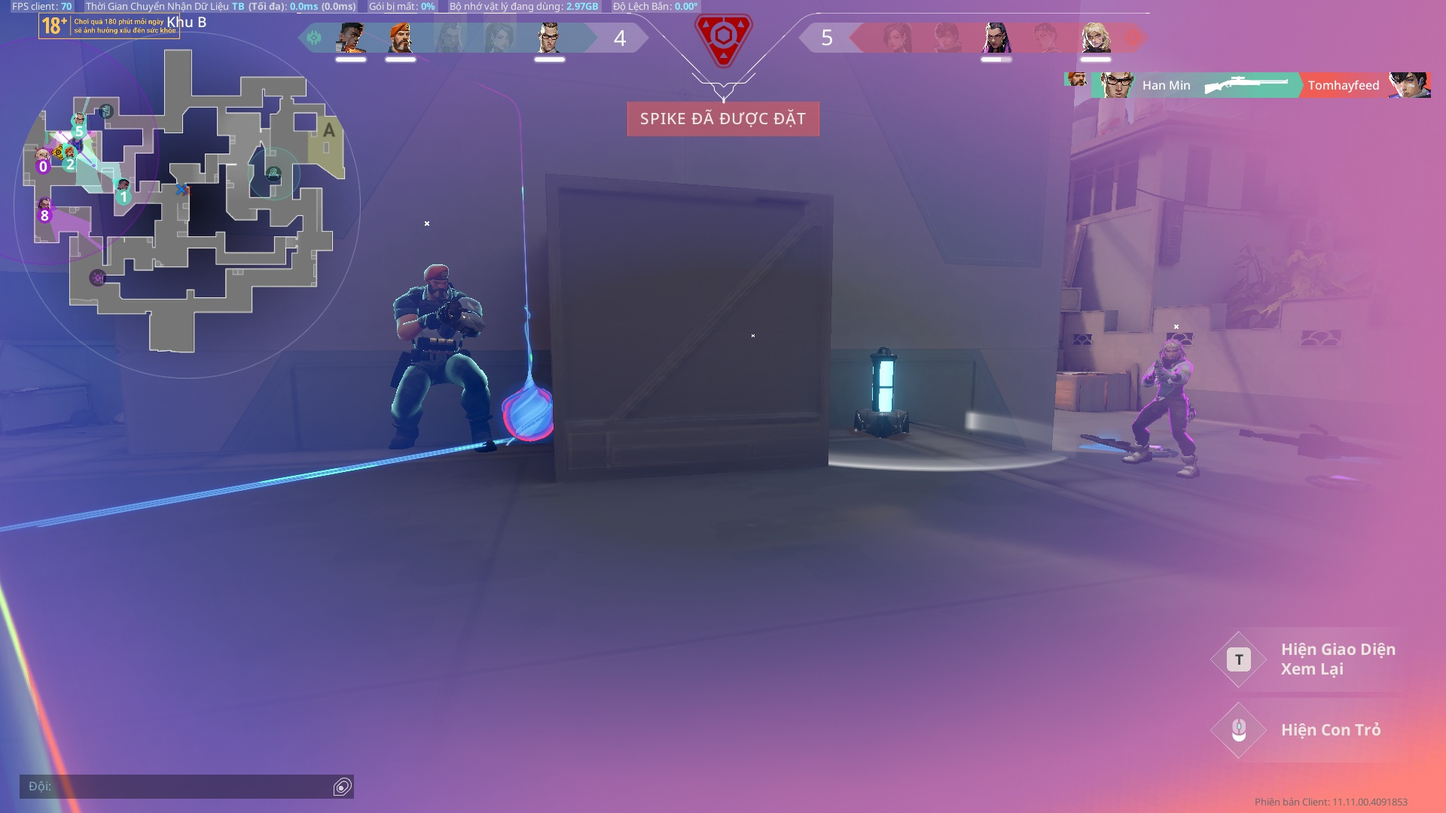body: (1154, 357, 1190, 402)
head: (1160, 333, 1185, 366)
